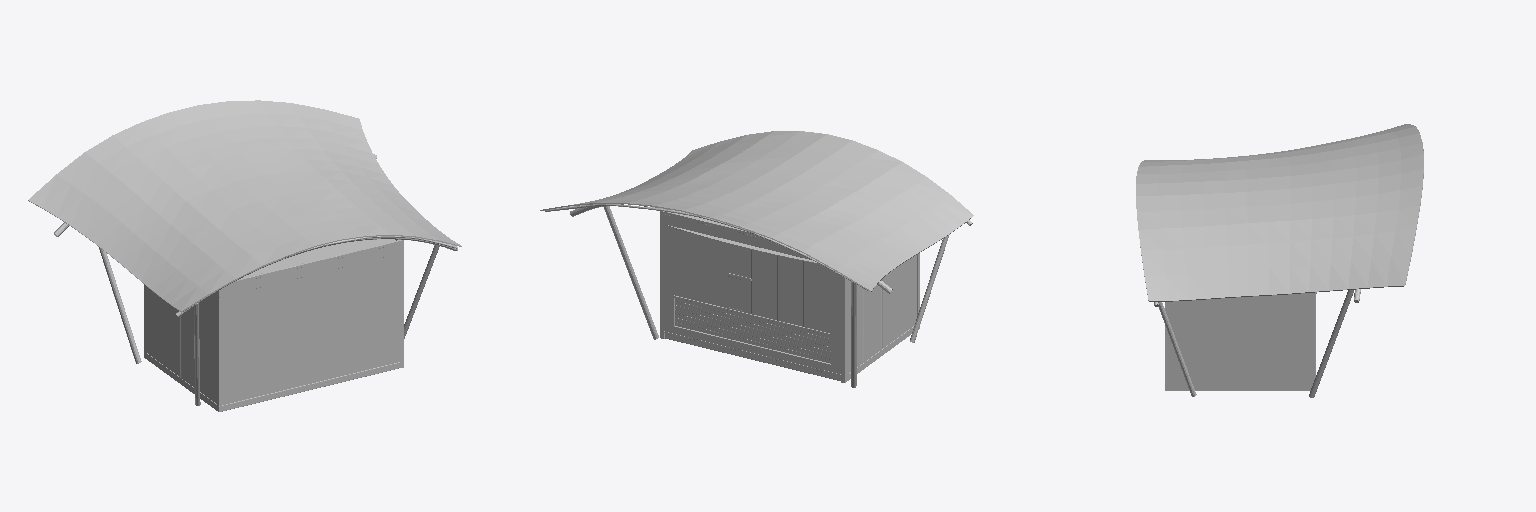
The model's file is Kiosk street N110919.obj.
The picture shows the model from 3 angles: view 1: azimuth 30°, elevation 25°; view 2: azimuth 150°, elevation 25°; view 3: azimuth 270°, elevation 25°; orthographic projection.
Parts seen in each view (by area): view 1: Plane006, Box034, Box036, Box025, Box003, Box033, Line001, Box023, Box005, Line003; view 2: Plane006, Box035, Box036, Box011, Box003, Box012, Box014, Box013, Line002, Rectangle005, Box017, Box020 (+7 smaller); view 3: Plane006, Box037, Box003, Line002.
Part boxes in pixels (bbox=[...]): Plane006: bbox=[28, 100, 461, 311]; Box034: bbox=[223, 242, 399, 404]; Box036: bbox=[146, 286, 216, 403]; Box025: bbox=[219, 244, 399, 297]; Box003: bbox=[146, 353, 399, 411]; Box033: bbox=[243, 239, 395, 277]; Line001: bbox=[99, 247, 141, 363]; Box023: bbox=[217, 291, 222, 411]; Box005: bbox=[229, 240, 401, 284]; Line003: bbox=[194, 303, 200, 405]; Plane006: bbox=[540, 131, 973, 291]; Box035: bbox=[674, 229, 830, 333]; Box036: bbox=[847, 255, 916, 374]; Box011: bbox=[664, 324, 840, 373]; Box003: bbox=[665, 326, 913, 380]; Box012: bbox=[664, 214, 810, 259]; Box014: bbox=[664, 224, 674, 325]; Box013: bbox=[831, 270, 840, 366]; Line002: bbox=[603, 206, 658, 339]; Rectangle005: bbox=[545, 204, 867, 290]; Box017: bbox=[675, 318, 830, 359]; Box020: bbox=[675, 305, 830, 346]; Plane006: bbox=[1136, 124, 1423, 301]; Box037: bbox=[1169, 293, 1310, 384]; Box003: bbox=[1169, 385, 1310, 390]; Line002: bbox=[1309, 290, 1353, 397].
Size of the model in its own units: 1435 by 783 by 1081.